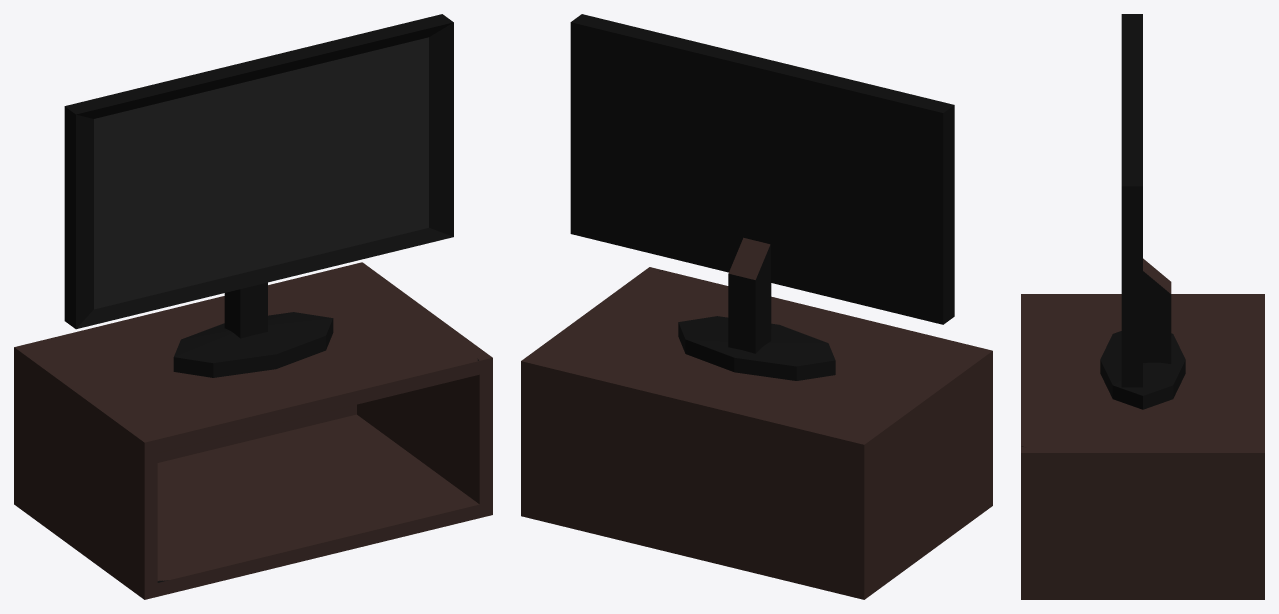
The picture shows the model from 3 angles, left to right: view 1: azimuth 30°, elevation 25°; view 2: azimuth 150°, elevation 25°; view 3: azimuth 270°, elevation 25°; orthographic projection. The views are drawn at different scales.
Parts seen in each view (by area): view 1: TV; view 2: TV; view 3: TV.
Boxes of the visible parts, x1,y1,x2,y2 form: TV: [14, 14, 492, 599]; TV: [521, 14, 992, 599]; TV: [1021, 14, 1264, 599].
Size of the model in its own units: 115 by 131 by 68.73.
